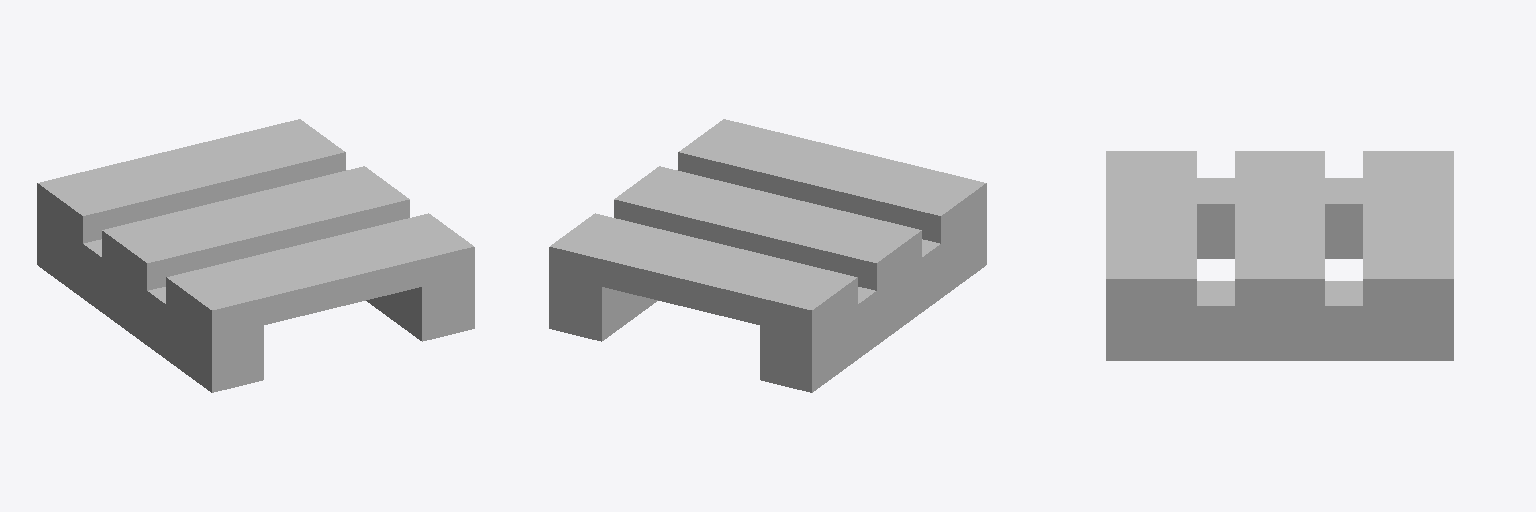
The model's file is pallet-small.obj.
The picture shows the model from 3 angles: view 1: azimuth 30°, elevation 25°; view 2: azimuth 150°, elevation 25°; view 3: azimuth 270°, elevation 25°; orthographic projection.
Parts seen in each view (by area): view 1: pallet-small; view 2: pallet-small; view 3: pallet-small.
Boxes of the visible parts, box(x1,y1,x2,y2) form: pallet-small: box(37, 119, 474, 392); pallet-small: box(549, 119, 986, 392); pallet-small: box(1106, 151, 1453, 360).
Size of the model in its own units: 0.5 by 0.15 by 0.575.